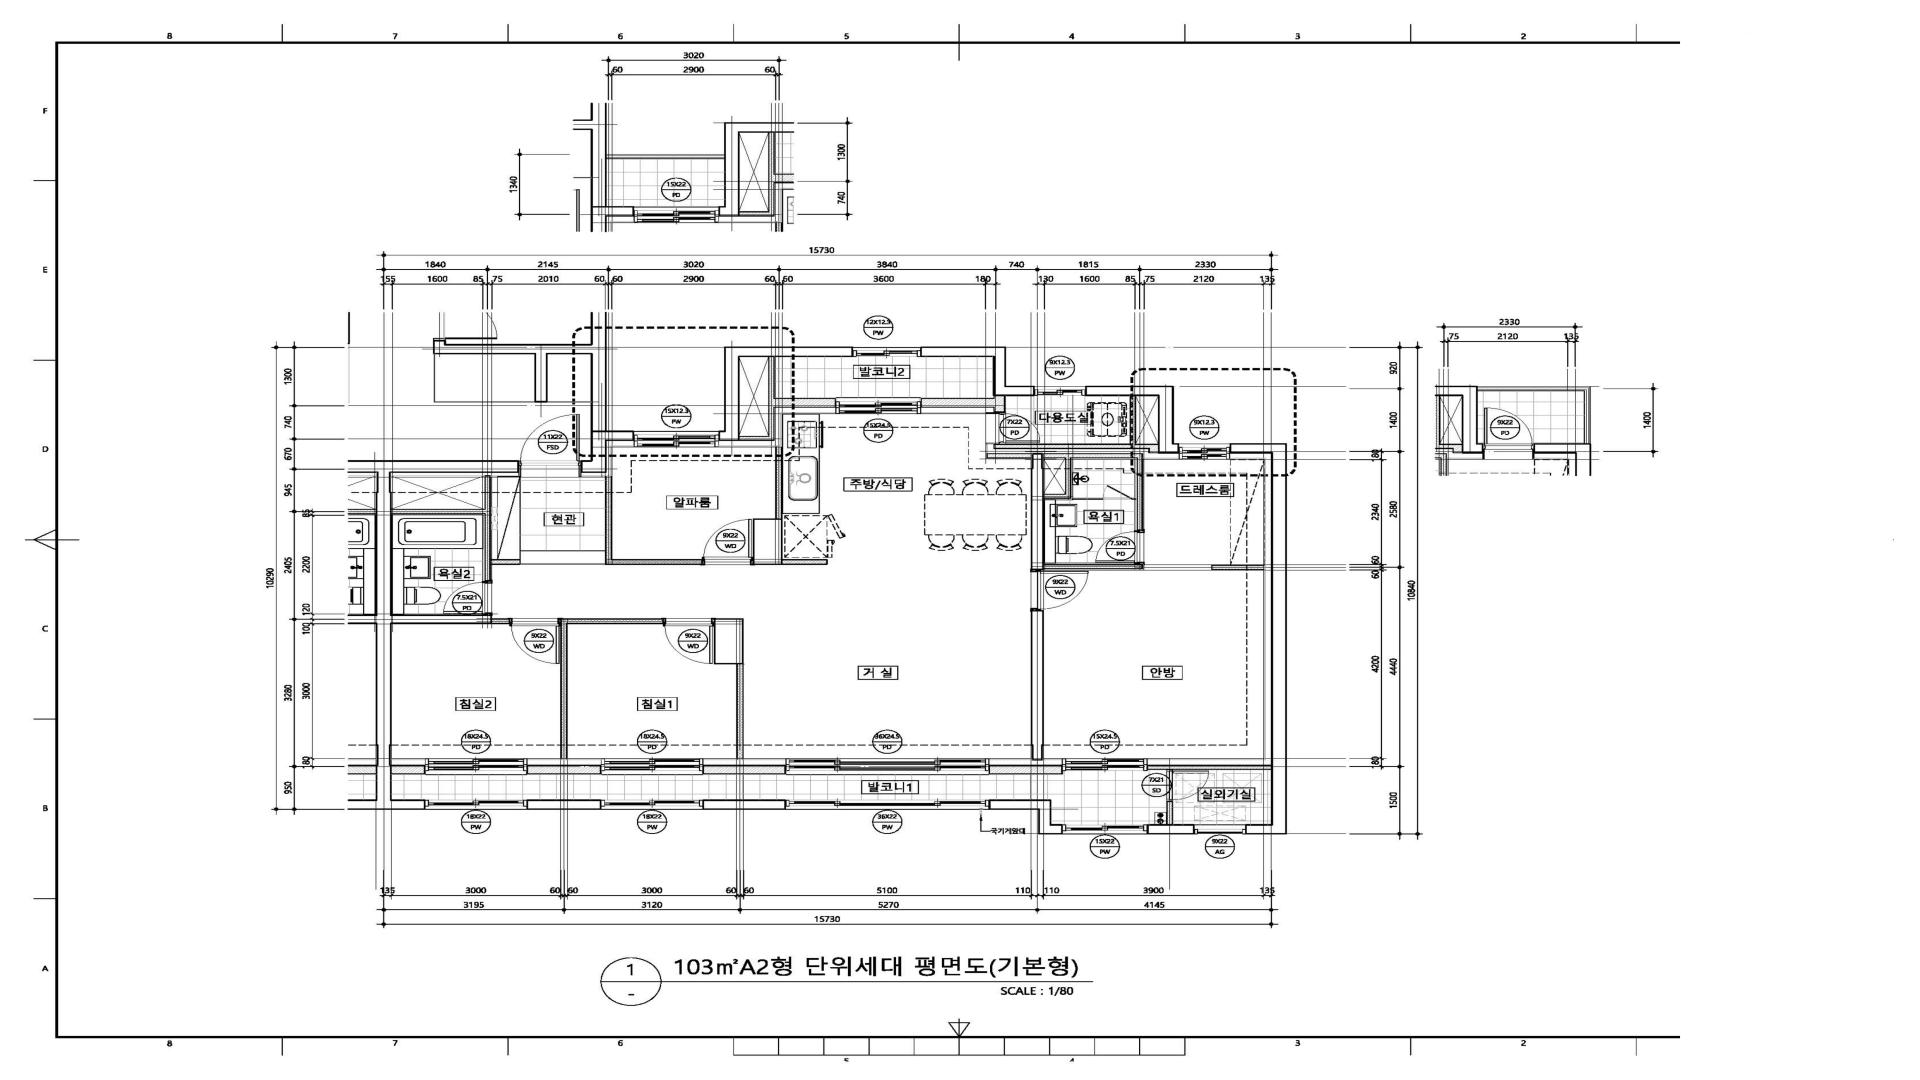door: (519, 414, 580, 469), (1030, 570, 1089, 610), (663, 618, 714, 664), (702, 519, 753, 565), (510, 618, 560, 664), (443, 581, 493, 615), (1095, 531, 1145, 563), (995, 412, 1040, 444), (1167, 770, 1209, 801), (1101, 484, 1136, 500), (1144, 564, 1211, 570)
wall: (1271, 443, 1287, 834), (376, 473, 392, 799), (580, 312, 607, 473), (347, 460, 519, 473), (433, 340, 590, 354), (1031, 610, 1044, 761), (719, 357, 740, 441), (1031, 453, 1044, 570), (994, 444, 1158, 453), (753, 518, 783, 565), (714, 618, 744, 664), (724, 347, 852, 357), (560, 624, 568, 759), (703, 799, 786, 810), (1158, 386, 1174, 443), (392, 615, 492, 624), (347, 799, 425, 810), (703, 765, 786, 775), (527, 799, 601, 810), (921, 346, 993, 357), (736, 664, 744, 759), (527, 764, 601, 774), (1085, 386, 1158, 396), (921, 398, 993, 408), (534, 354, 548, 403), (989, 799, 1051, 810), (989, 765, 1062, 774), (485, 475, 491, 581), (605, 476, 612, 565), (560, 618, 663, 624), (1148, 765, 1271, 770), (775, 398, 835, 408), (775, 447, 783, 518), (612, 559, 702, 565), (993, 347, 1006, 386), (1044, 564, 1143, 569), (1044, 453, 1143, 458), (768, 357, 774, 436), (392, 509, 485, 514), (1148, 824, 1194, 834), (1230, 443, 1271, 454), (1137, 458, 1143, 531), (993, 386, 1034, 396), (1211, 564, 1264, 570), (1038, 810, 1051, 834), (392, 765, 425, 774), (607, 430, 634, 441), (1130, 396, 1136, 444), (783, 559, 828, 565), (1246, 824, 1271, 834), (1065, 458, 1071, 499), (986, 453, 1031, 458), (1158, 443, 1178, 454), (994, 396, 1006, 412), (740, 436, 775, 441), (491, 559, 520, 565), (1166, 801, 1173, 824), (1051, 824, 1062, 834), (492, 618, 510, 624), (1044, 494, 1065, 499)
window: (786, 758, 989, 775), (786, 800, 989, 810), (425, 758, 527, 775), (601, 758, 703, 775), (835, 397, 921, 414), (634, 431, 719, 447), (425, 799, 527, 810), (1062, 758, 1148, 771), (601, 800, 703, 810), (1062, 824, 1148, 834), (1178, 444, 1230, 460), (852, 347, 921, 357), (1194, 824, 1246, 834), (1034, 386, 1085, 396)
